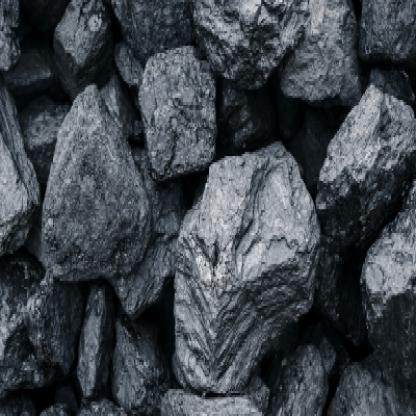Sedimentary_coal: (170, 140, 318, 405), (34, 77, 170, 320), (189, 9, 361, 140), (315, 75, 409, 272), (134, 37, 227, 175), (70, 289, 118, 395), (324, 356, 406, 414), (51, 4, 110, 75)
